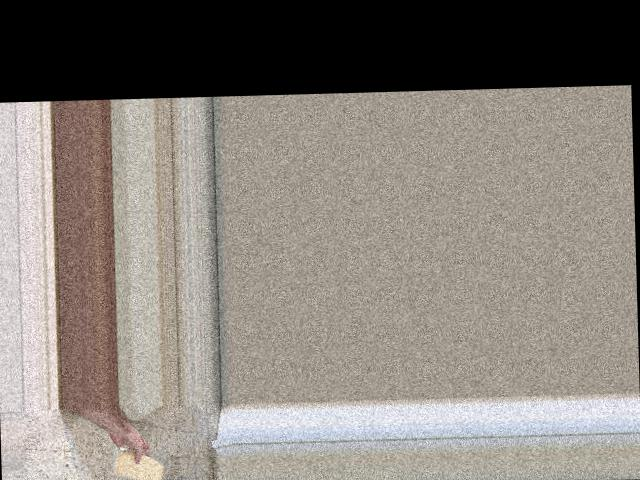cheese: (110, 447, 169, 480)
